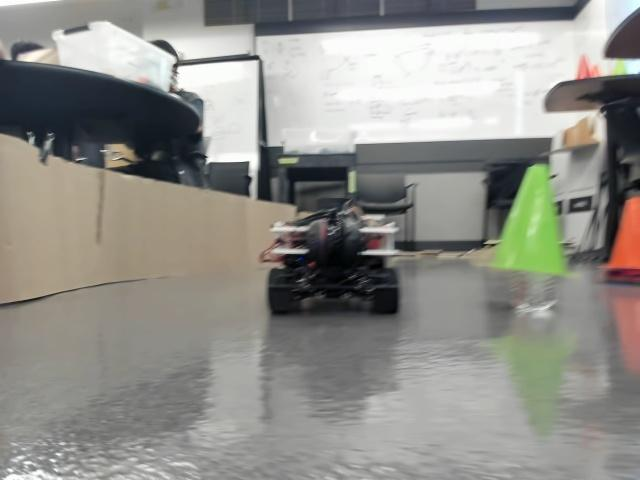Car: (264, 195, 399, 315)
